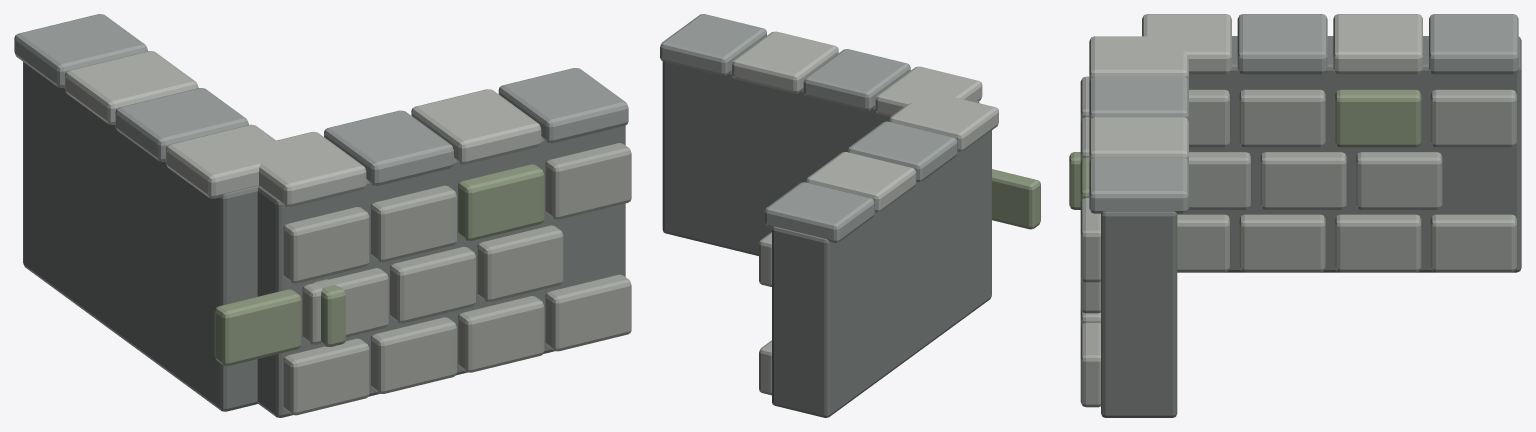
Rendered from retaining_wall_corner_2x2x1p2.glb.
The picture shows the model from 3 angles, left to right: view 1: azimuth 30°, elevation 25°; view 2: azimuth 150°, elevation 25°; view 3: azimuth 270°, elevation 25°; orthographic projection. The views are drawn at different scales.
Visible parts, largest first — view 1: retaining_corner_y_core, retaining_corner_x_core, retaining_corner_x_cap_03, retaining_corner_x_cap_04, retaining_corner_x_cap_02, retaining_corner_x_cap_01, retaining_corner_y_cap_01, retaining_corner_y_cap_03, retaining_corner_y_cap_04, retaining_corner_y_cap_02, retaining_corner_x_face_02_04, retaining_corner_x_face_02_02 (+11 smaller); view 2: retaining_corner_y_core, retaining_corner_x_core, retaining_corner_y_cap_04, retaining_corner_x_cap_02, retaining_corner_x_cap_03, retaining_corner_x_cap_04, retaining_corner_y_cap_03, retaining_corner_y_cap_02, retaining_corner_y_cap_01, retaining_corner_x_cap_01, retaining_corner_x_face_02_04, retaining_corner_y_face_01_04 (+1 smaller); view 3: retaining_corner_y_core, retaining_corner_x_core, retaining_corner_x_cap_04, retaining_corner_y_cap_02, retaining_corner_y_cap_04, retaining_corner_y_cap_03, retaining_corner_y_face_01_02, retaining_corner_y_face_03_02, retaining_corner_y_face_03_03, retaining_corner_y_face_01_03, retaining_corner_y_face_01_04, retaining_corner_y_face_03_04 (+13 smaller).
Part boxes in pixels (box(x1,y1,x2,y2)): retaining_corner_y_core: box(23, 62, 258, 411); retaining_corner_x_core: box(257, 125, 625, 417); retaining_corner_x_cap_03: box(411, 89, 541, 164); retaining_corner_x_cap_04: box(498, 68, 628, 143); retaining_corner_x_cap_02: box(324, 110, 453, 185); retaining_corner_x_cap_01: box(242, 131, 366, 207); retaining_corner_y_cap_01: box(165, 124, 292, 198); retaining_corner_y_cap_03: box(64, 51, 198, 124); retaining_corner_y_cap_04: box(14, 14, 147, 87); retaining_corner_y_cap_02: box(115, 88, 248, 161); retaining_corner_x_face_02_04: box(214, 289, 301, 365); retaining_corner_x_face_02_02: box(389, 246, 475, 323); retaining_corner_y_core: box(772, 130, 991, 417); retaining_corner_x_core: box(662, 61, 979, 255); retaining_corner_y_cap_04: box(765, 182, 874, 242); retaining_corner_x_cap_02: box(803, 49, 910, 110); retaining_corner_x_cap_03: box(732, 31, 838, 93); retaining_corner_x_cap_04: box(660, 14, 766, 75); retaining_corner_y_cap_03: box(806, 152, 916, 212); retaining_corner_y_cap_02: box(847, 121, 957, 182); retaining_corner_y_cap_01: box(889, 94, 998, 151); retaining_corner_x_cap_01: box(875, 66, 982, 116); retaining_corner_x_face_02_04: box(992, 169, 1040, 229); retaining_corner_y_face_01_04: box(759, 340, 771, 395); retaining_corner_y_core: box(1177, 36, 1521, 272); retaining_corner_x_core: box(1101, 211, 1177, 417); retaining_corner_x_cap_04: box(1089, 157, 1188, 213); retaining_corner_y_cap_02: box(1237, 14, 1327, 74); retaining_corner_y_cap_04: box(1429, 14, 1518, 74); retaining_corner_y_cap_03: box(1333, 14, 1422, 74); retaining_corner_y_face_01_02: box(1239, 214, 1325, 272); retaining_corner_y_face_03_02: box(1239, 89, 1325, 147); retaining_corner_y_face_03_03: box(1335, 89, 1421, 147); retaining_corner_y_face_01_03: box(1335, 214, 1421, 272); retaining_corner_y_face_01_04: box(1430, 214, 1516, 272); retaining_corner_y_face_03_04: box(1430, 89, 1516, 147).
Bounding box in the file's own units: 2.36 × 1.3 × 2.36.
